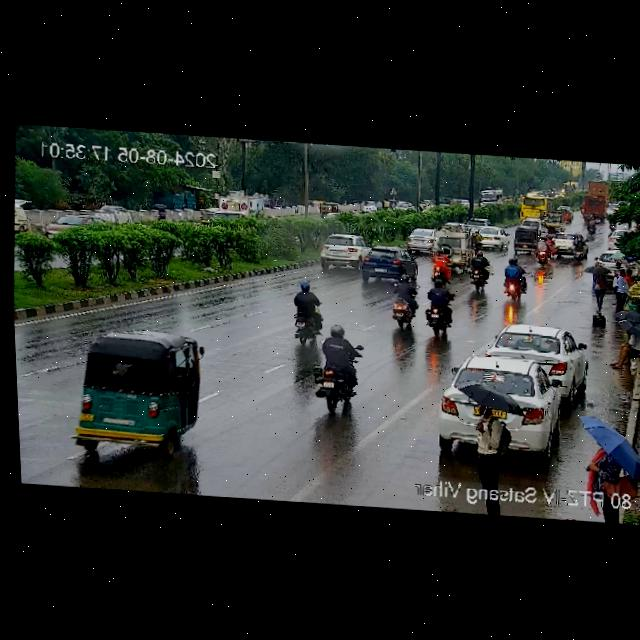bus: (515, 194, 552, 223), (478, 188, 505, 207)
car: (63, 327, 210, 456), (437, 356, 583, 460), (481, 322, 588, 386), (352, 246, 419, 286), (312, 233, 368, 271), (40, 212, 103, 237), (596, 249, 640, 273), (469, 225, 509, 249), (449, 230, 470, 272), (400, 228, 434, 253), (94, 203, 131, 225), (514, 226, 541, 253), (552, 230, 580, 252), (314, 202, 342, 218), (545, 210, 564, 233), (361, 201, 377, 214), (396, 201, 413, 212), (442, 222, 465, 230), (467, 218, 487, 227), (383, 199, 394, 211), (564, 207, 573, 221)
motorcycle: (306, 321, 365, 414), (289, 285, 324, 347), (422, 276, 455, 340), (387, 270, 418, 328), (501, 258, 531, 300), (466, 251, 495, 288), (430, 253, 455, 285), (531, 238, 555, 268), (572, 229, 590, 260)
person: (470, 402, 515, 482), (583, 437, 622, 490), (610, 319, 640, 370), (607, 269, 631, 313), (587, 272, 608, 316), (151, 202, 168, 224)
truck: (209, 192, 265, 226), (581, 193, 608, 221)
